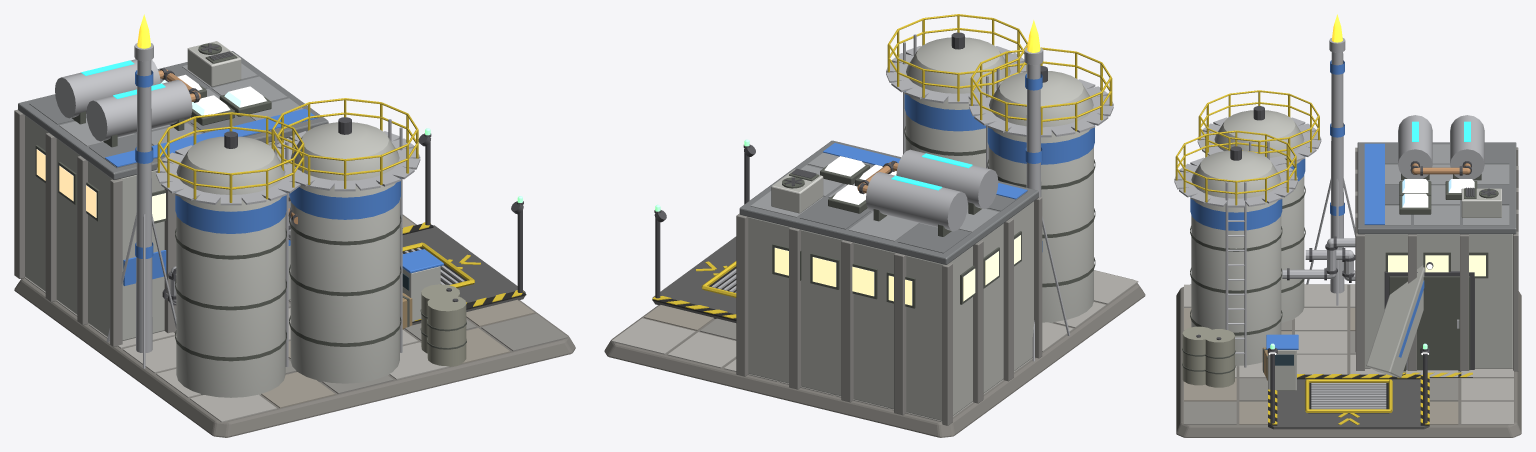
The model's file is refinery_blue.glb.
3 renders of one model, left to right at view 1: azimuth 30°, elevation 25°; view 2: azimuth 150°, elevation 25°; view 3: azimuth 270°, elevation 25°, orthographic. The views are drawn at different scales.
Parts seen in each view (by area): view 1: Body; view 2: Body; view 3: Body.
Part boxes in pixels (box(x1,y1,x2,y2)): Body: box(14, 14, 575, 437); Body: box(604, 14, 1145, 437); Body: box(1174, 14, 1521, 437).
Size of the model in its own units: 6.06 by 5.5 by 6.01.
Materials: 1 (1 with a texture image).
